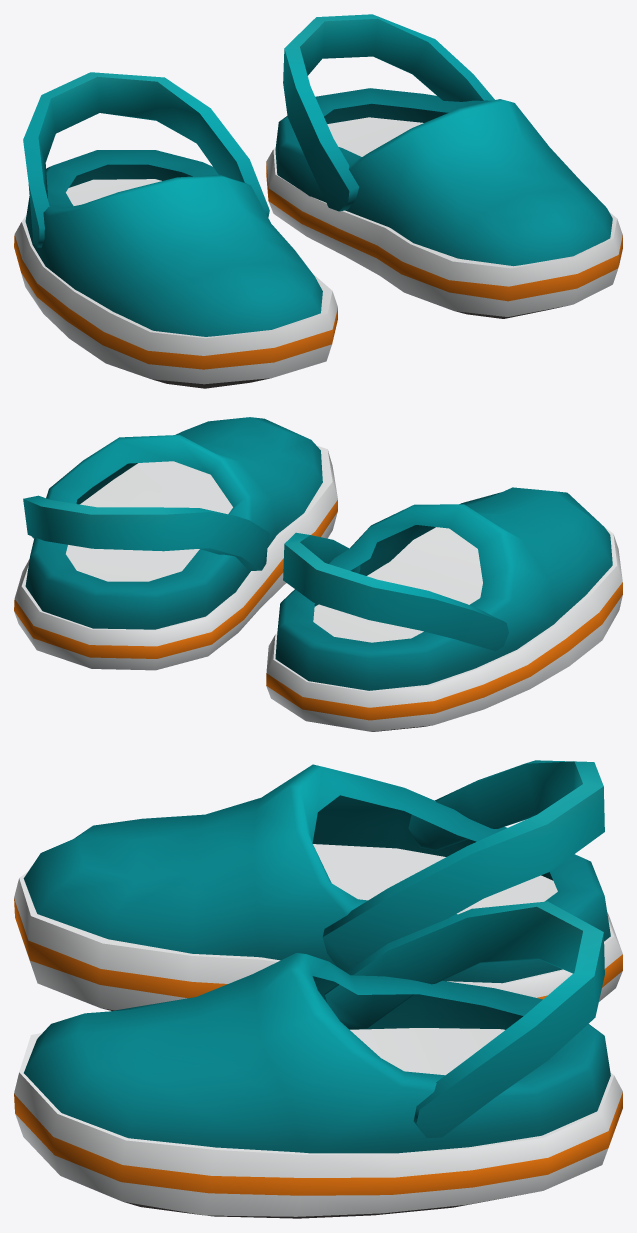
Rendered from Shoe_Slippers_02.glb.
The picture shows the model from 3 angles, top to bottom: view 1: azimuth 30°, elevation 25°; view 2: azimuth 150°, elevation 25°; view 3: azimuth 270°, elevation 25°; orthographic projection. The views are drawn at different scales.
Parts seen in each view (by area): view 1: Shoe_Slippers_02; view 2: Shoe_Slippers_02; view 3: Shoe_Slippers_02.
Boxes of the visible parts, bbox=[...] form: Shoe_Slippers_02: bbox=[14, 14, 622, 388]; Shoe_Slippers_02: bbox=[14, 417, 622, 731]; Shoe_Slippers_02: bbox=[14, 760, 622, 1218].
Size of the model in its own units: 0.2583 by 0.0799 by 0.205.
Materials: 1 (1 with a texture image).
